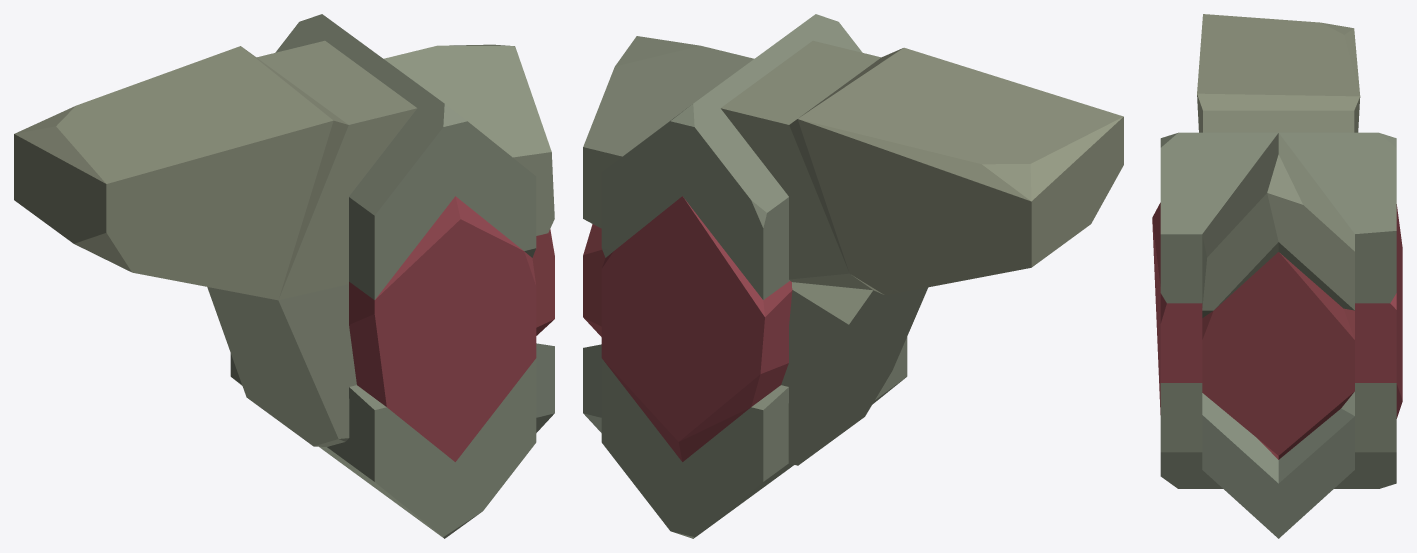
File: arch_small_half.fbx
3 views of the same model, side by side, from view 1: azimuth 30°, elevation 25°; view 2: azimuth 150°, elevation 25°; view 3: azimuth 270°, elevation 25° (orthographic). The views are drawn at different scales.
Visible parts, largest first — view 1: arch_small_half; view 2: arch_small_half; view 3: arch_small_half.
Part boxes in pixels (x1,y1,x2,y2): arch_small_half: (14, 14, 554, 538); arch_small_half: (583, 14, 1123, 538); arch_small_half: (1152, 14, 1402, 538).
Size of the model in its own units: 141 by 129 by 82.02.
